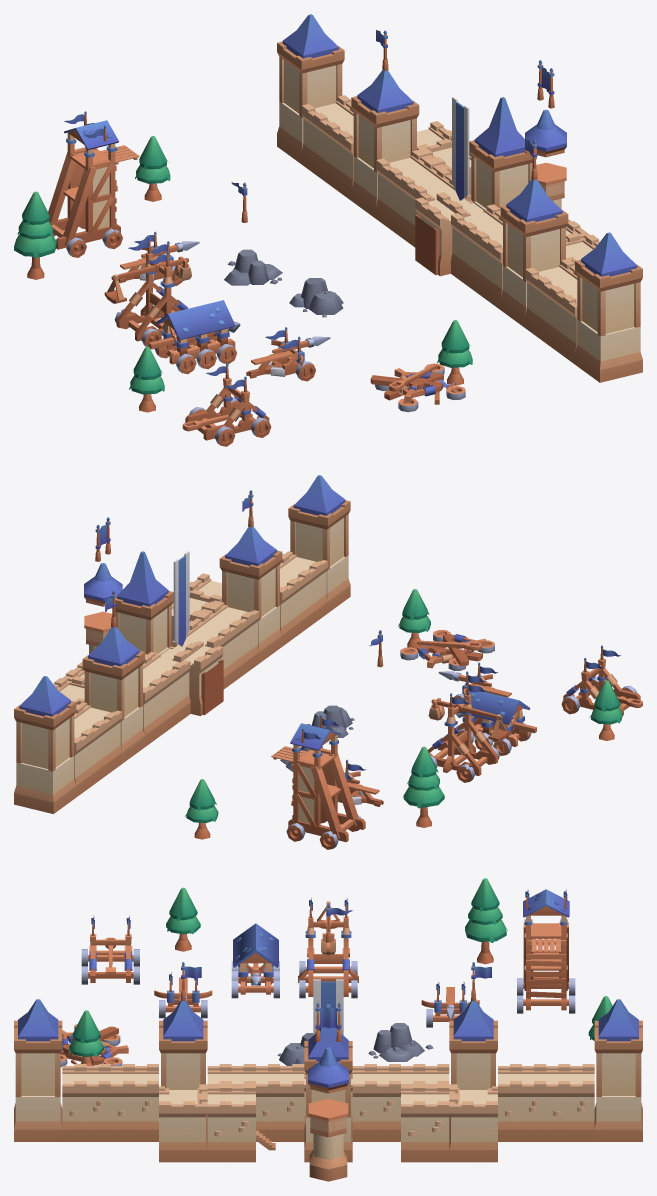
3 renders of one model, top to bottom at view 1: azimuth 30°, elevation 25°; view 2: azimuth 150°, elevation 25°; view 3: azimuth 270°, elevation 25°, orthographic. The views are drawn at different scales.
Visible parts, largest first — view 1: siege-tower, siege-ram, tower-square-base.003, tower-square-mid.003, siege-trebuchet, wall.003, tower-square-top-roof-high, tower-square-mid.001, tower-square-mid.004, tower-square-mid, siege-catapult-demolished, wall.006 (+30 smaller); view 2: siege-tower, siege-trebuchet, tower-square-base.004, tower-square-mid.004, siege-catapult-demolished, tower-square-top-roof-high, wall.001, tower-square-mid.001, tower-square-mid.003, tower-square-mid, tower-square-top-roof.002, tower-square-top-roof (+29 smaller); view 3: siege-tower, wall.004, wall.005, wall.007, wall.009, wall.002, wall.008, wall.006, wall, wall-corner, wall-corner.001, siege-ram (+30 smaller).
Part boxes in pixels (x1,y1,x2,y2): siege-tower: (48, 111, 139, 249); siege-ram: (156, 300, 235, 364); tower-square-base.003: (575, 319, 642, 382); tower-square-mid.003: (577, 275, 640, 336); siege-trebuchet: (116, 238, 188, 341); wall.003: (376, 149, 441, 236); tower-square-top-roof-high: (469, 97, 536, 171); tower-square-mid.001: (353, 111, 416, 172); tower-square-mid.004: (279, 57, 342, 117); tower-square-mid: (503, 220, 565, 281); siege-catapult-demolished: (370, 363, 465, 412); wall.006: (525, 259, 577, 345); siege-tower: (271, 715, 365, 842); siege-trebuchet: (427, 681, 497, 775); tower-square-base.004: (14, 756, 76, 813); tower-square-mid.004: (16, 715, 74, 771); siege-catapult-demolished: (400, 630, 494, 670); tower-square-top-roof-high: (112, 551, 173, 620); wall.001: (197, 601, 259, 679); tower-square-mid.001: (84, 665, 142, 721); tower-square-mid.003: (290, 514, 348, 570); tower-square-mid: (222, 564, 279, 620); tower-square-top-roof.002: (288, 475, 350, 529); tower-square-top-roof: (219, 526, 282, 579); siege-tower: (523, 889, 569, 1010); wall.004: (207, 1084, 255, 1162); wall.005: (401, 1084, 449, 1162); wall.007: (62, 1064, 110, 1141); wall.009: (546, 1064, 594, 1141); wall.002: (352, 1064, 400, 1141); wall.008: (498, 1064, 546, 1141); wall.006: (110, 1064, 158, 1141); wall: (256, 1064, 304, 1141); wall-corner: (159, 1084, 207, 1162); wall-corner.001: (449, 1084, 497, 1162); siege-ram: (233, 923, 278, 994).
Bounding box in the file's own units: 11.86 × 4.01 × 13.
54 materials, 54 textured.
